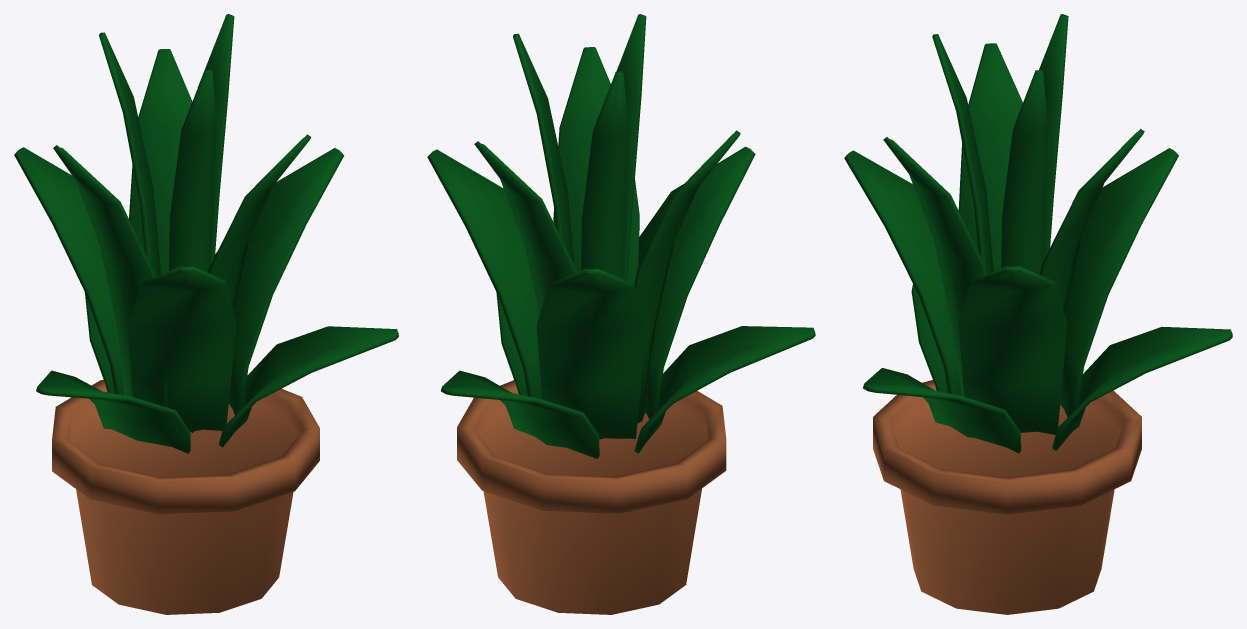
File: bigPlantPot.fbx
The picture shows the model from 3 angles, left to right: view 1: azimuth 30°, elevation 25°; view 2: azimuth 150°, elevation 25°; view 3: azimuth 270°, elevation 25°; orthographic projection.
Parts seen in each view (by area): view 1: BigPlant; view 2: BigPlant; view 3: BigPlant.
Part boxes in pixels (x1,y1,x2,y2): BigPlant: (14,14,398,614); BigPlant: (427,14,815,614); BigPlant: (844,14,1232,614).
Size of the model in its own units: 1.17 by 1.74 by 1.15.
